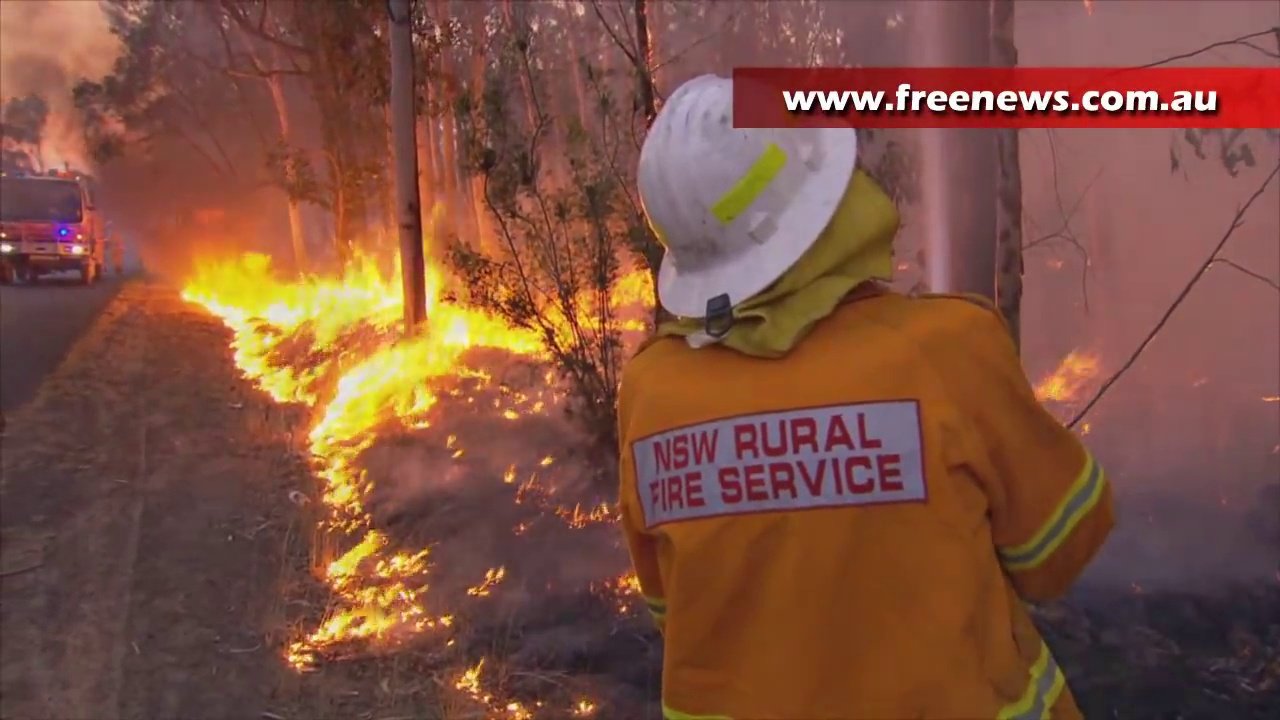fire: (202, 253, 406, 375), (317, 399, 374, 633), (433, 301, 540, 348), (375, 548, 432, 635), (461, 663, 528, 720), (1040, 350, 1101, 404), (608, 266, 655, 308)
